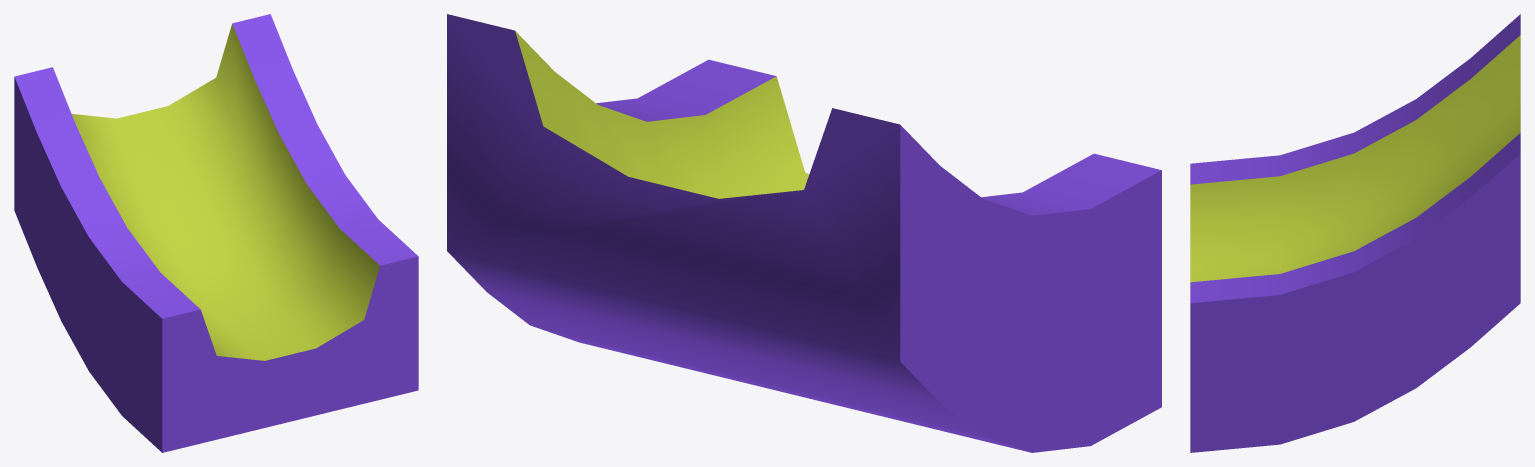
File: rampStart_C-col.dae
3 renders of one model, left to right at view 1: azimuth 30°, elevation 25°; view 2: azimuth 150°, elevation 25°; view 3: azimuth 270°, elevation 25°, orthographic. The views are drawn at different scales.
Visible parts, largest first — view 1: rampStart_C-col; view 2: rampStart_C-col; view 3: rampStart_C-col.
Part boxes in pixels (<box>): rampStart_C-col: <box>14,14,418,452</box>; rampStart_C-col: <box>447,14,1161,452</box>; rampStart_C-col: <box>1190,14,1520,452</box>.
Bounding box in the file's own units: 1 × 1 × 1.
